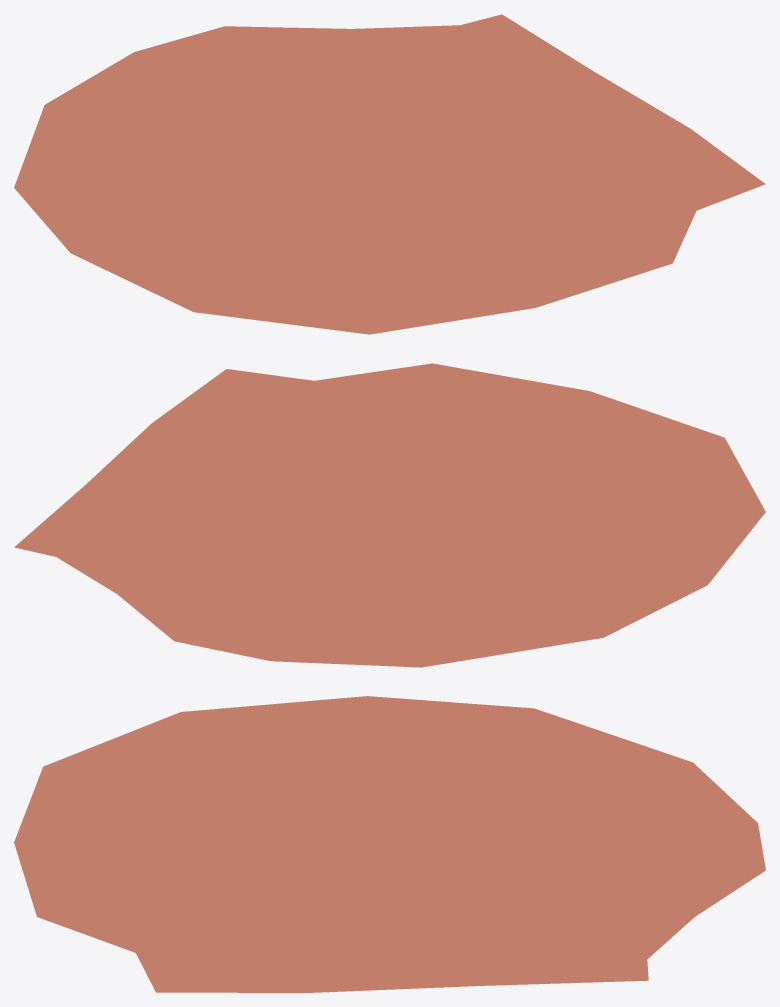
Rendered from Sol_Zone_Boss.fbx.
The picture shows the model from 3 angles, top to bottom: view 1: azimuth 30°, elevation 25°; view 2: azimuth 150°, elevation 25°; view 3: azimuth 270°, elevation 25°; orthographic projection. The views are drawn at different scales.
Visible parts, largest first — view 1: Sol_Zone_Boss; view 2: Sol_Zone_Boss; view 3: Sol_Zone_Boss.
Boxes of the visible parts, x1=… form: Sol_Zone_Boss: x1=14, y1=14, x2=765, y2=334; Sol_Zone_Boss: x1=14, y1=363, x2=765, y2=667; Sol_Zone_Boss: x1=14, y1=696, x2=765, y2=992.
Bounding box in the file's own units: 8225 × 5.68e-13 × 8805.
